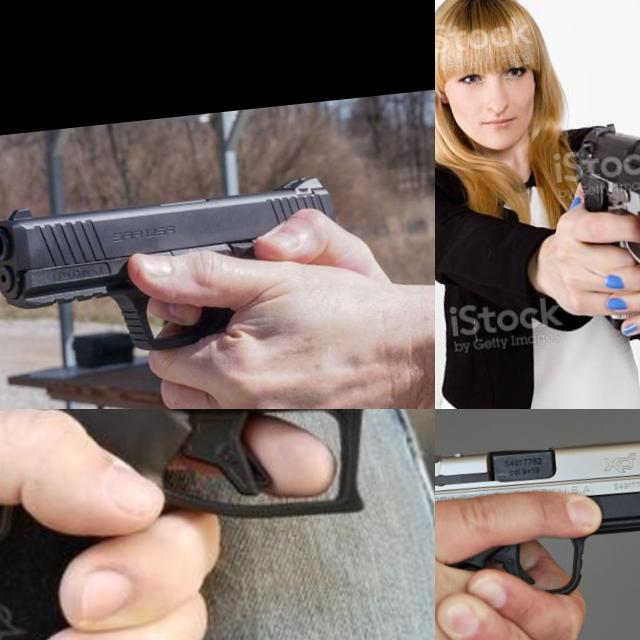handgun: (0, 409, 435, 640), (0, 171, 348, 369), (435, 409, 640, 623), (568, 103, 640, 280)
